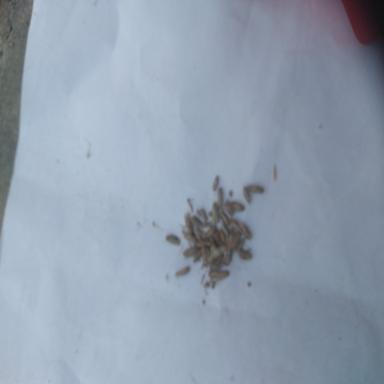pbw: (210, 201, 224, 224), (207, 268, 230, 282), (172, 263, 192, 279), (181, 245, 200, 258), (241, 183, 251, 205), (165, 232, 180, 246), (183, 227, 196, 243), (191, 213, 203, 229), (239, 222, 251, 238), (211, 244, 225, 257), (200, 241, 208, 261), (248, 184, 264, 194), (218, 186, 225, 208), (230, 219, 242, 231), (204, 225, 216, 237), (232, 198, 242, 212), (225, 201, 233, 218), (225, 245, 233, 262), (218, 212, 229, 224), (216, 230, 225, 244), (235, 239, 245, 251), (211, 178, 220, 190), (244, 246, 253, 256), (228, 234, 236, 245), (235, 234, 239, 242)
